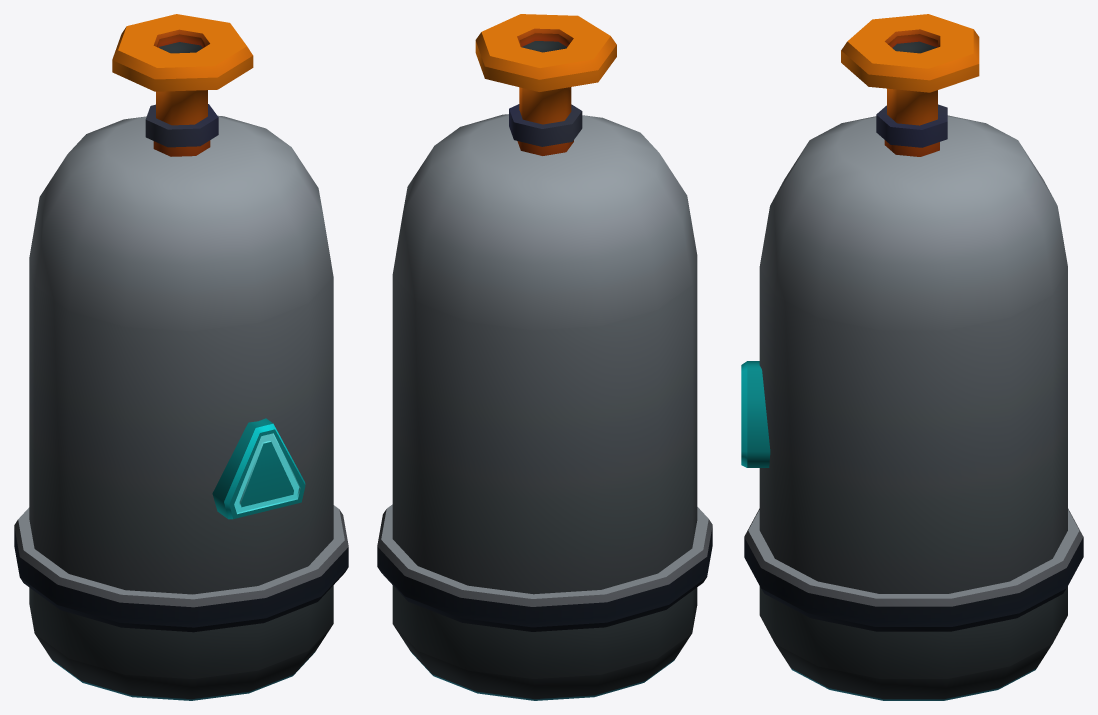
Rendered from SM_Gas_Cylinder_1.fbx.
3 views of the same model, side by side, from view 1: azimuth 30°, elevation 25°; view 2: azimuth 150°, elevation 25°; view 3: azimuth 270°, elevation 25° (orthographic).
Visible parts, largest first — view 1: Cylinder.019; view 2: Cylinder.019; view 3: Cylinder.019.
Boxes of the visible parts, x1,y1,x2,y2 form: Cylinder.019: [14, 14, 348, 700]; Cylinder.019: [377, 14, 712, 700]; Cylinder.019: [741, 14, 1083, 700].
Size of the model in its own units: 44.03 by 88.67 by 45.53.
